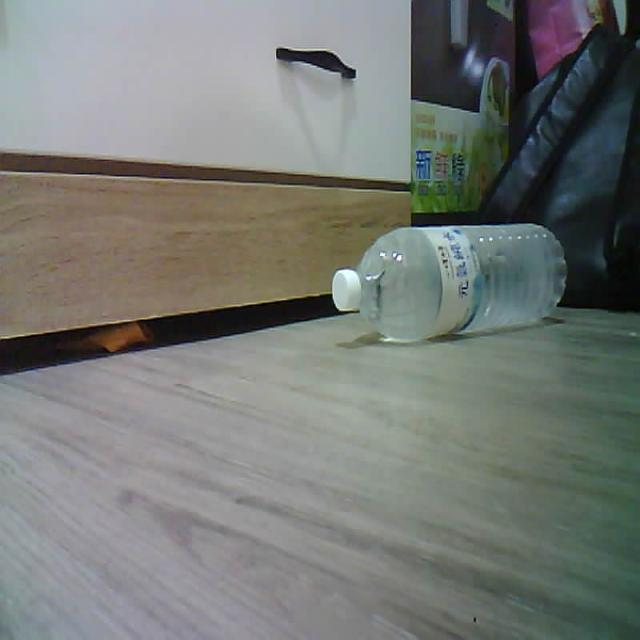bottle: (332, 224, 566, 341)
